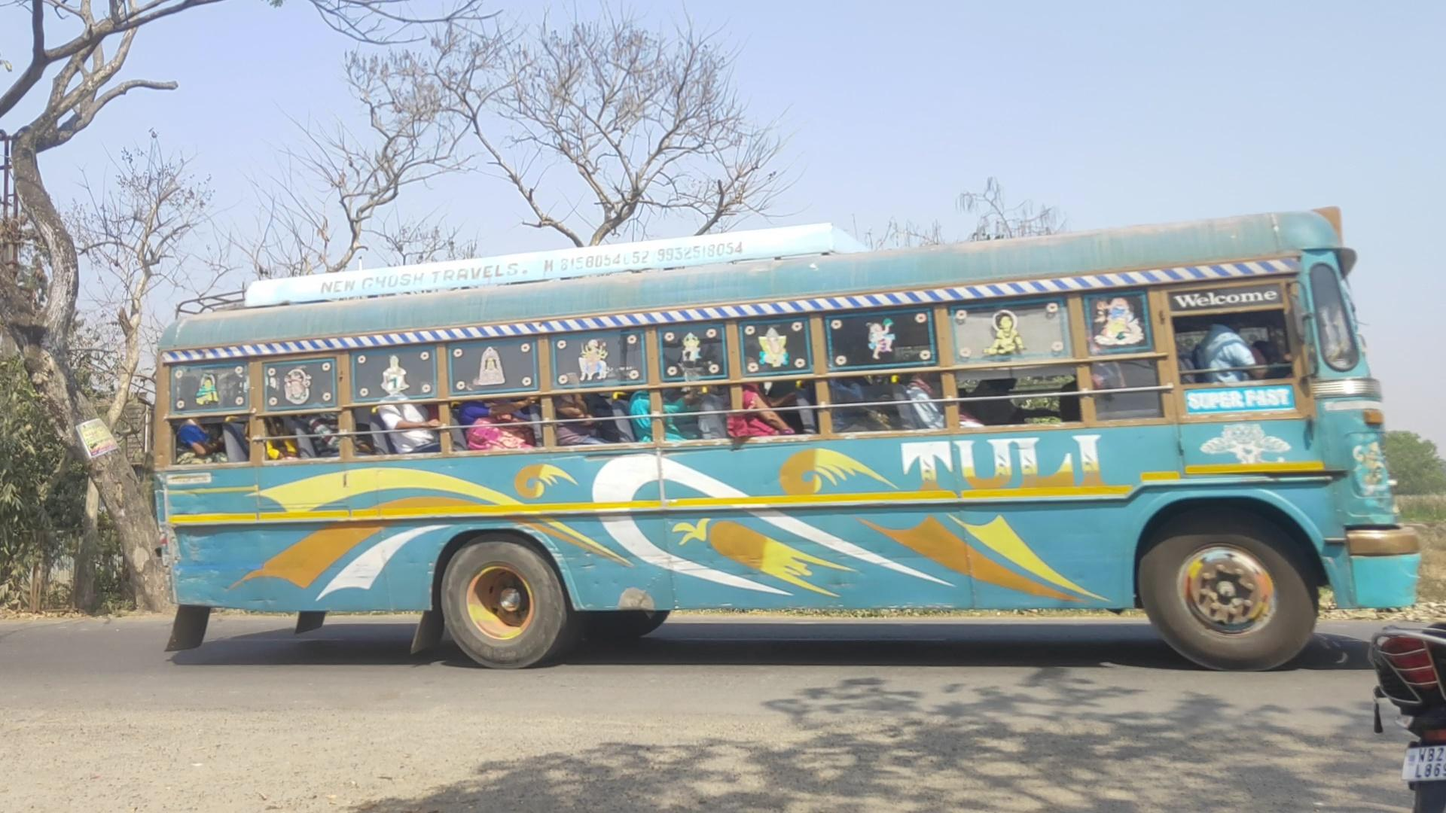Bus: (144, 206, 1421, 674)
